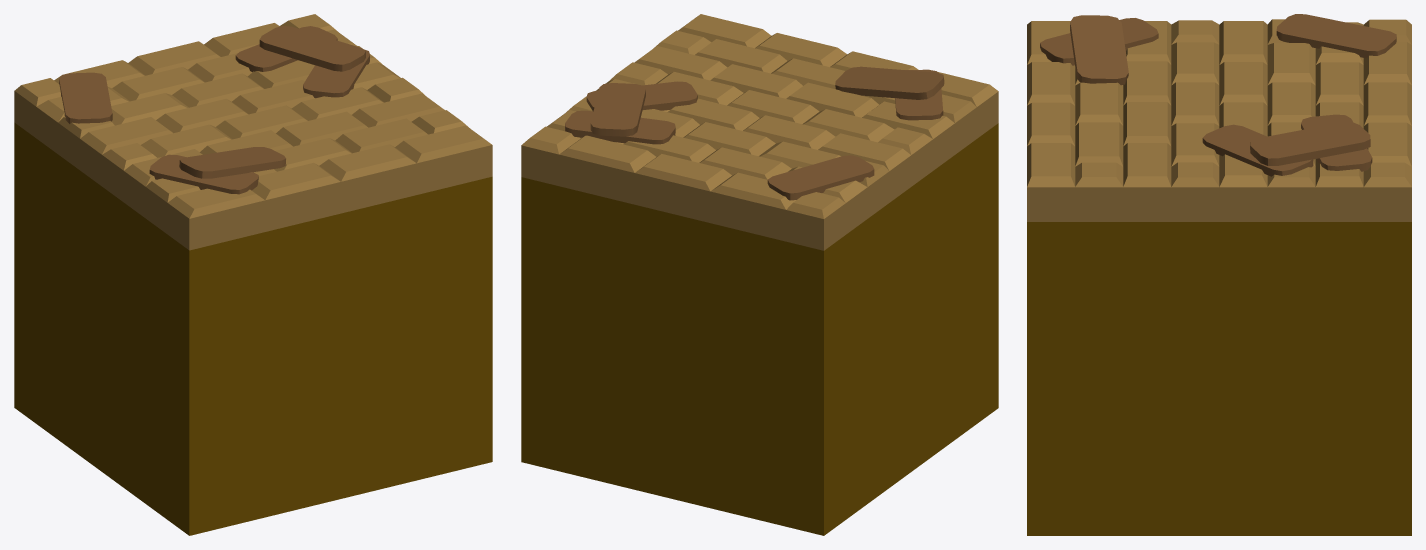
The model's file is Floor.fbx.
3 views of the same model, side by side, from view 1: azimuth 30°, elevation 25°; view 2: azimuth 150°, elevation 25°; view 3: azimuth 270°, elevation 25° (orthographic). The views are drawn at different scales.
Visible parts, largest first — view 1: polySurface48; view 2: polySurface48; view 3: polySurface48.
Part boxes in pixels (bbox=[...]): polySurface48: bbox=[14, 14, 492, 535]; polySurface48: bbox=[521, 14, 998, 535]; polySurface48: bbox=[1027, 14, 1411, 535].
Size of the model in its own units: 1 by 1.07 by 1.
